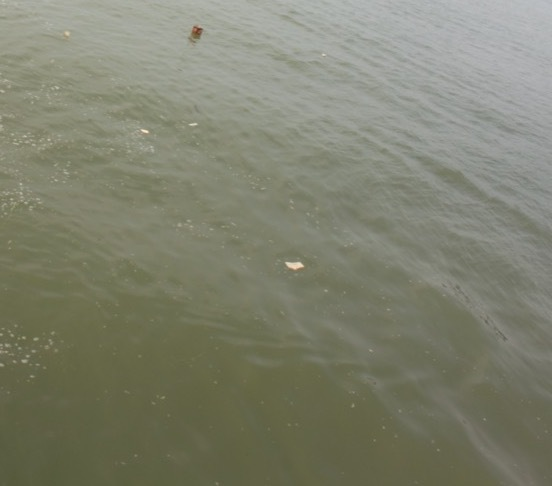plastic: (276, 253, 313, 279), (132, 120, 163, 145), (187, 21, 209, 43), (181, 113, 204, 133), (56, 27, 80, 44), (311, 50, 337, 62)
